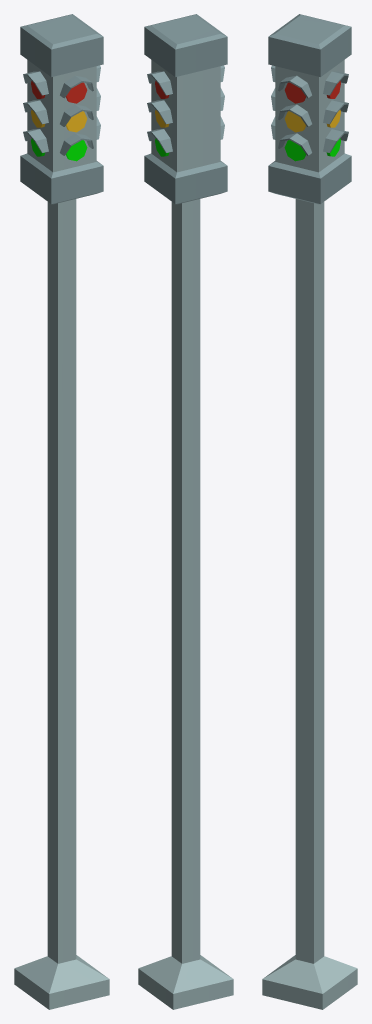
Rendered from trafficLights3.fbx.
3 renders of one model, left to right at view 1: azimuth 30°, elevation 25°; view 2: azimuth 210°, elevation 25°; view 3: azimuth 330°, elevation 25°, orthographic.
Parts seen in each view (by area): view 1: Cube, Cylinder.004, Cylinder.002, Cylinder.003, Cylinder.005, Cylinder.012; view 2: Cube, Cylinder.012, Cylinder.013, Cylinder.004; view 3: Cube, Cylinder.012, Cylinder.002, Cylinder.003, Cylinder.013, Cylinder.004.
Part boxes in pixels (<box>): Cube: <box>14,14,109,1009</box>; Cylinder.004: <box>23,71,48,152</box>; Cylinder.002: <box>60,75,93,155</box>; Cylinder.003: <box>66,82,87,161</box>; Cylinder.005: <box>31,81,45,156</box>; Cylinder.012: <box>96,65,100,139</box>; Cube: <box>138,14,233,1009</box>; Cylinder.012: <box>147,71,172,152</box>; Cylinder.013: <box>155,81,169,156</box>; Cylinder.004: <box>220,65,224,139</box>; Cube: <box>262,14,357,1009</box>; Cylinder.012: <box>323,71,348,152</box>; Cylinder.002: <box>278,75,311,155</box>; Cylinder.003: <box>284,82,305,161</box>; Cylinder.013: <box>326,81,340,156</box>; Cylinder.004: <box>271,65,275,139</box>.
Bounding box in the file's own units: 0.2245 × 3 × 0.2132.
Materials: 1 (1 with a texture image).
